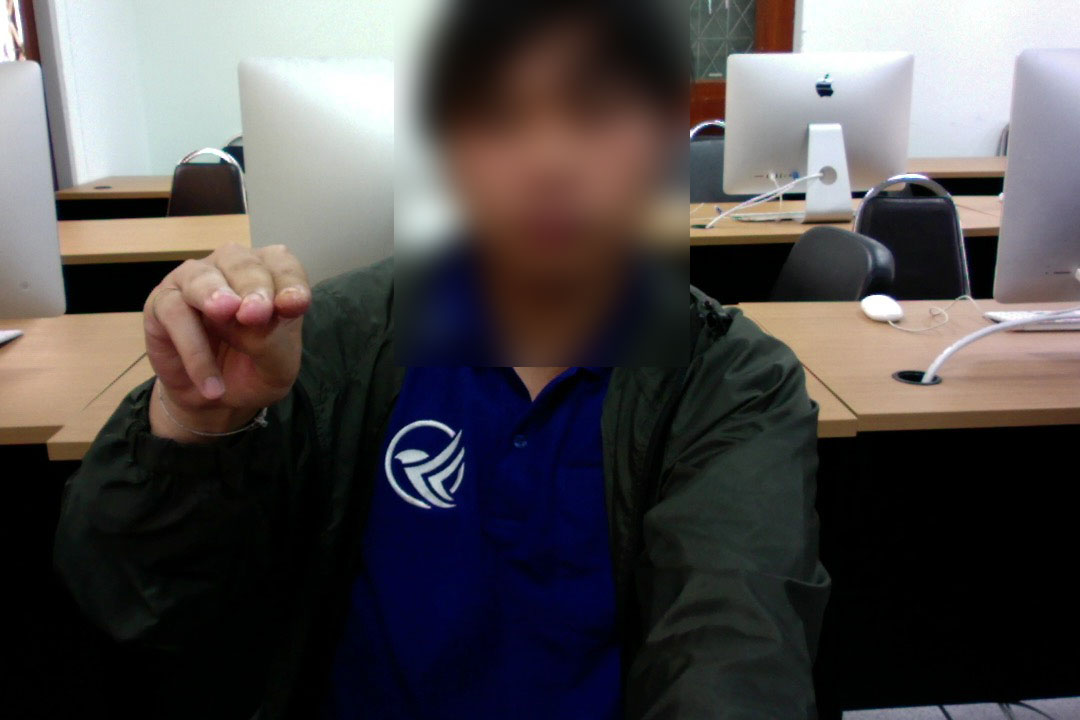mor: (133, 231, 321, 428)
